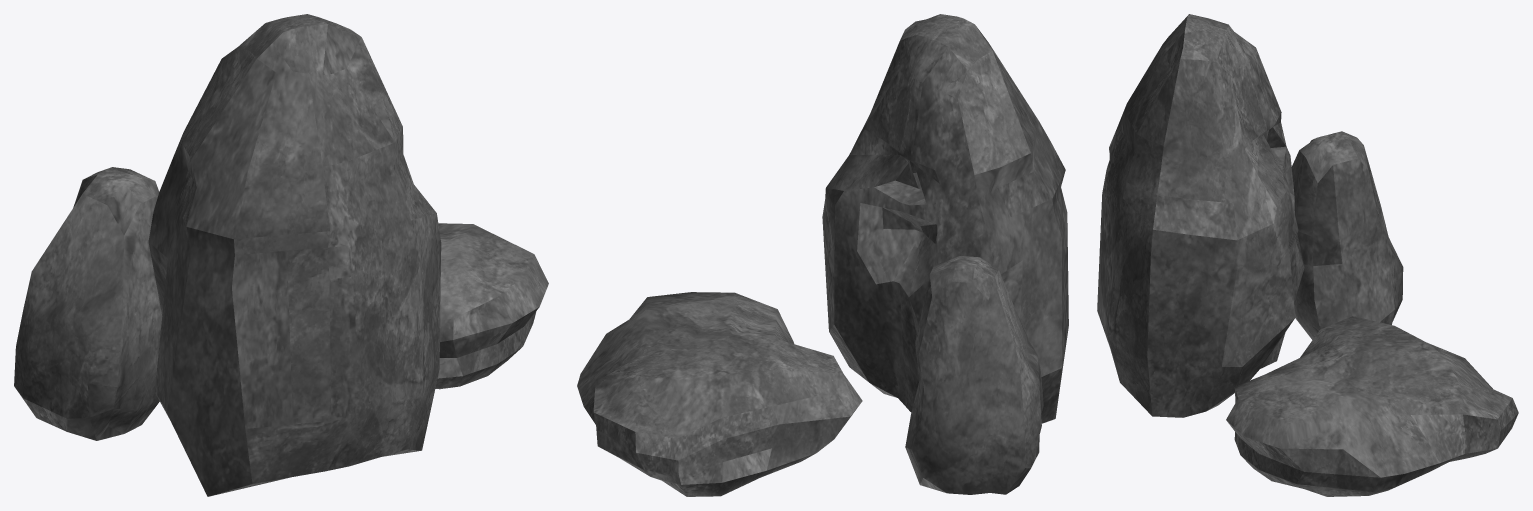
Rendered from Rocks1.FBX.
3 views of the same model, side by side, from view 1: azimuth 30°, elevation 25°; view 2: azimuth 150°, elevation 25°; view 3: azimuth 270°, elevation 25° (orthographic). The views are drawn at different scales.
Visible parts, largest first — view 1: pCube3; view 2: pCube3; view 3: pCube3.
Boxes of the visible parts, x1=… form: pCube3: x1=14, y1=14, x2=548, y2=496; pCube3: x1=577, y1=14, x2=1068, y2=496; pCube3: x1=1097, y1=14, x2=1518, y2=496.
Bounding box in the file's own units: 300 × 256 × 264.
1 material, 1 textured.
